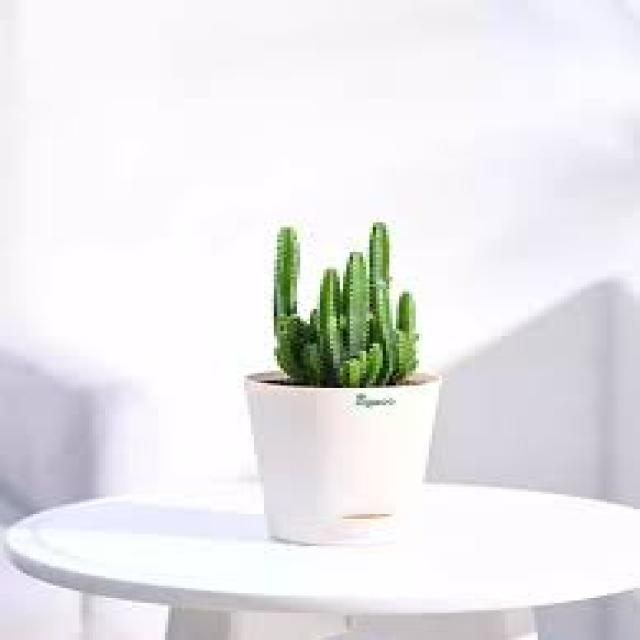cactus: (223, 197, 468, 369)
